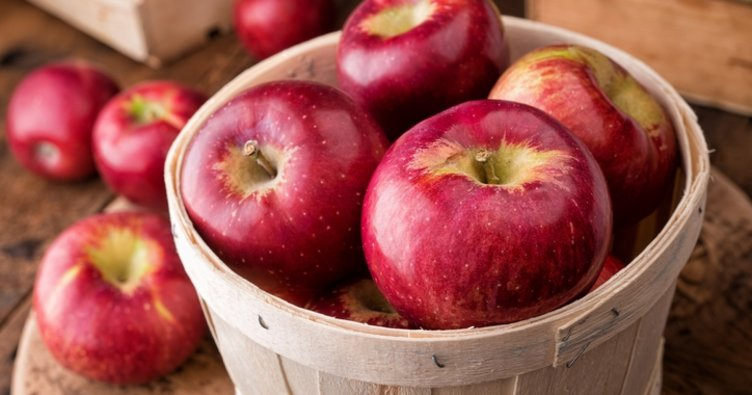apple: (358, 96, 636, 327)
